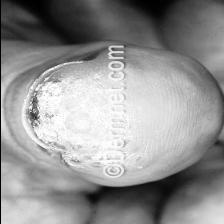Non-Cancerous Skin Condition: (22, 53, 102, 176)
